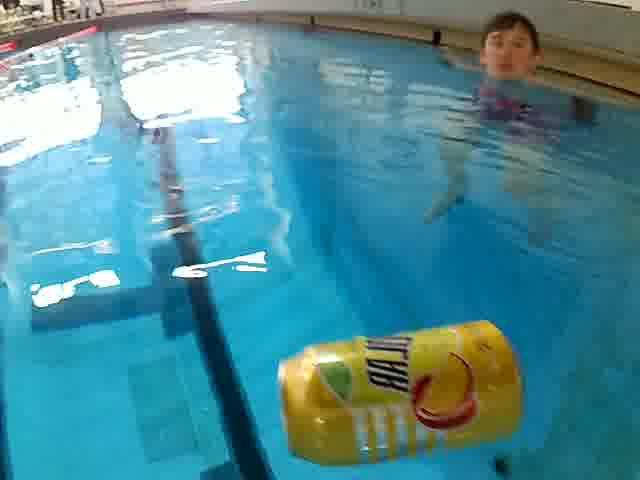Can: (262, 302, 553, 480)
